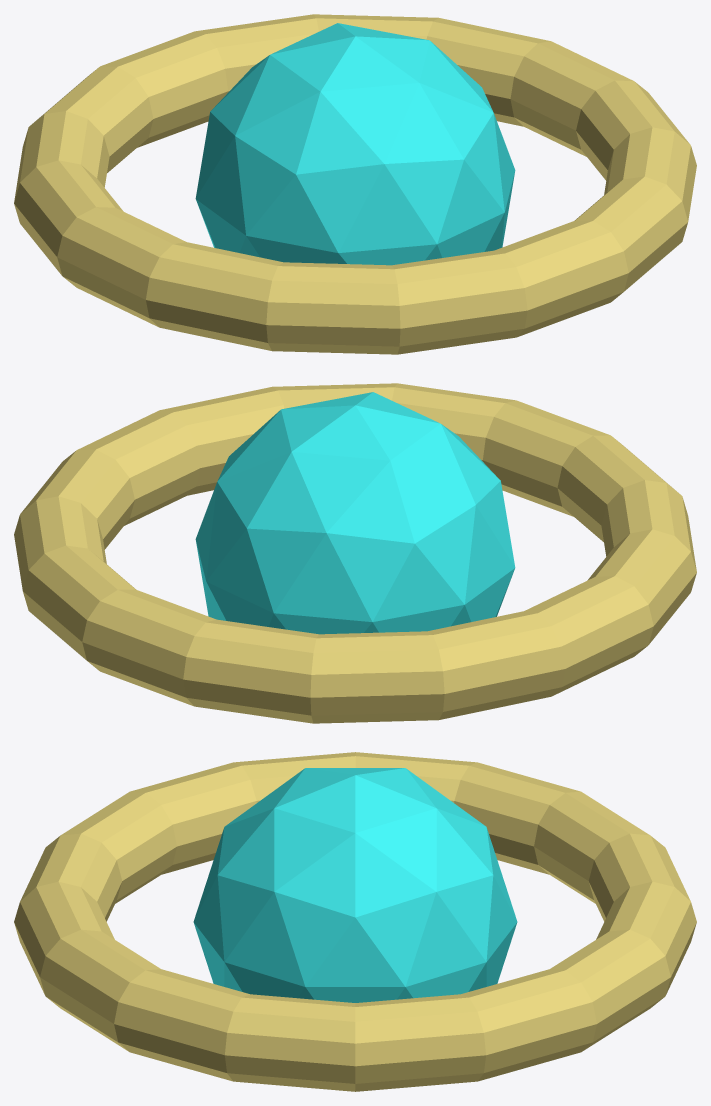
Rendered from grappleTarget.fbx.
3 renders of one model, top to bottom at view 1: azimuth 30°, elevation 25°; view 2: azimuth 150°, elevation 25°; view 3: azimuth 270°, elevation 25°, orthographic.
Visible parts, largest first — view 1: grapple target; view 2: grapple target; view 3: grapple target.
Boxes of the visible parts, x1,y1,x2,y2 form: grapple target: (14, 14, 696, 354); grapple target: (14, 383, 696, 723); grapple target: (14, 752, 696, 1091).
Bounding box in the file's own units: 230 × 109 × 230.
